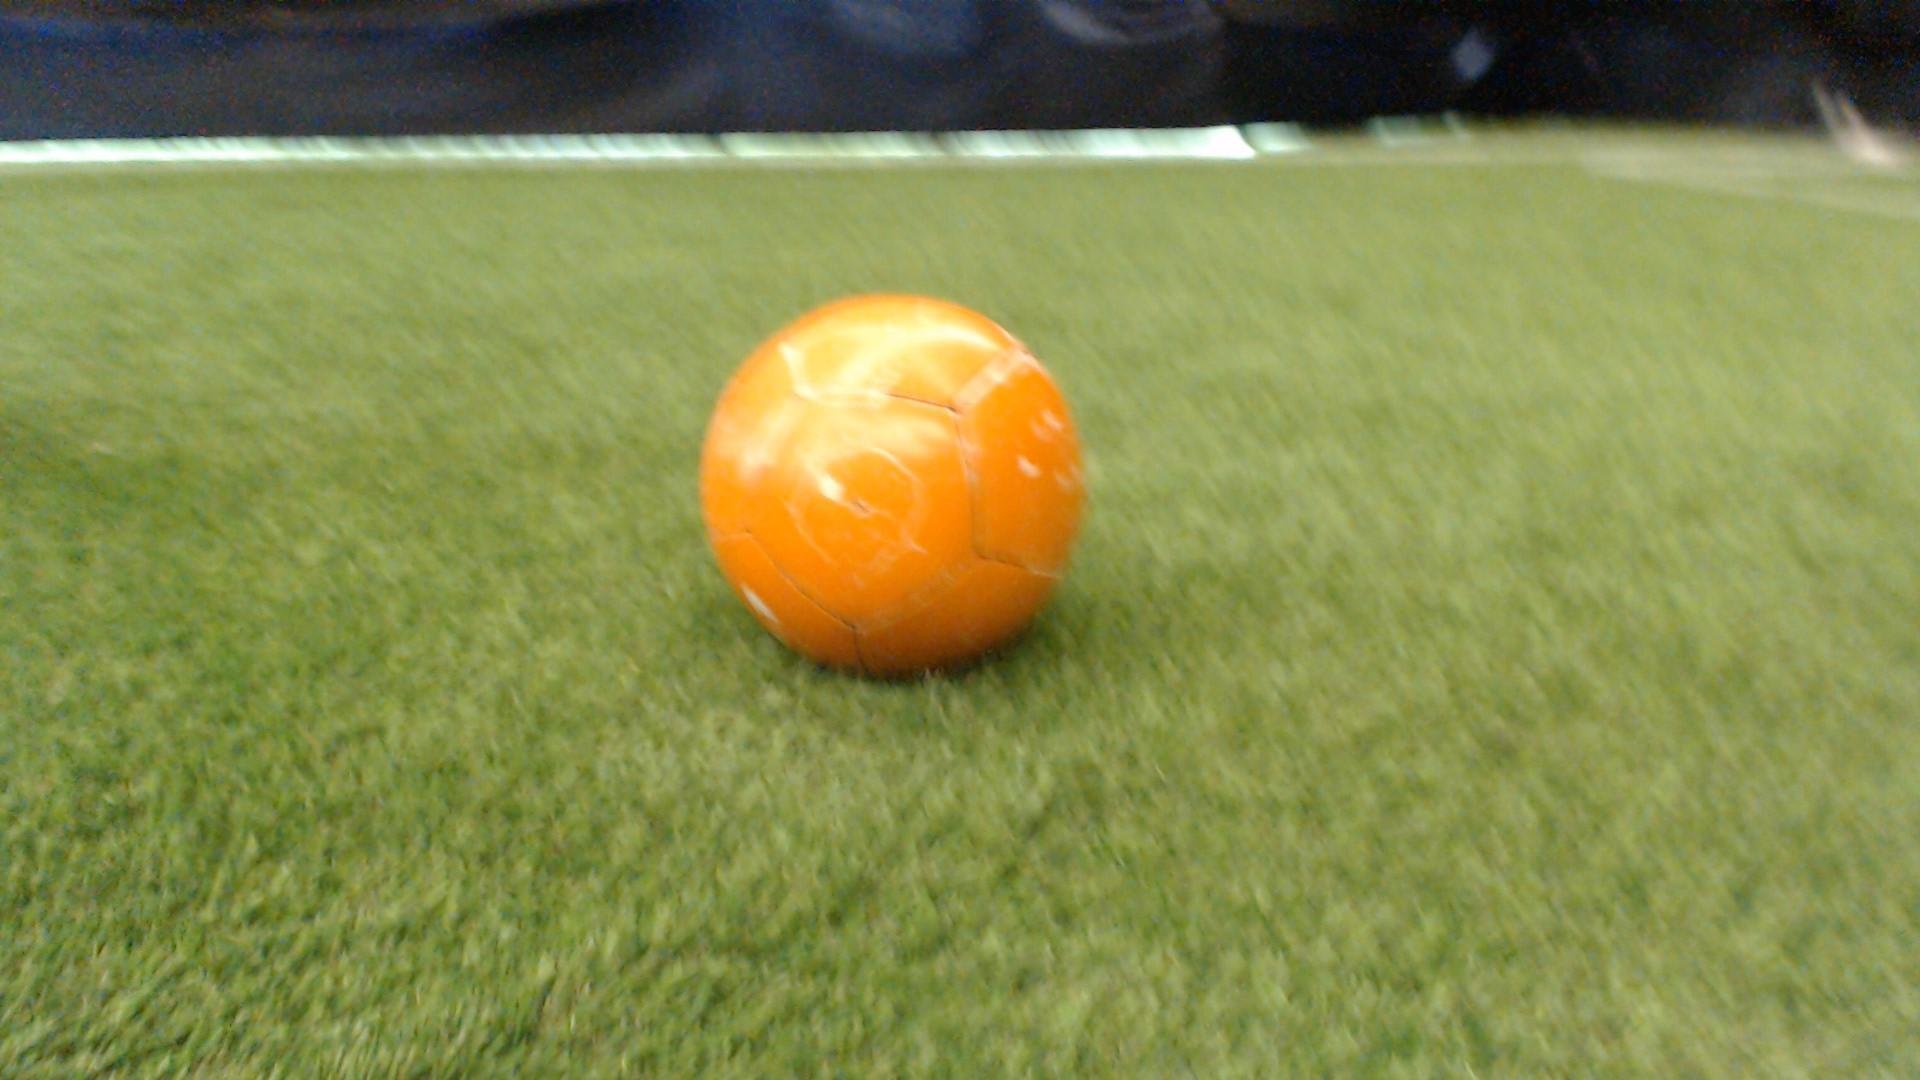bola: (662, 273, 1131, 699)
